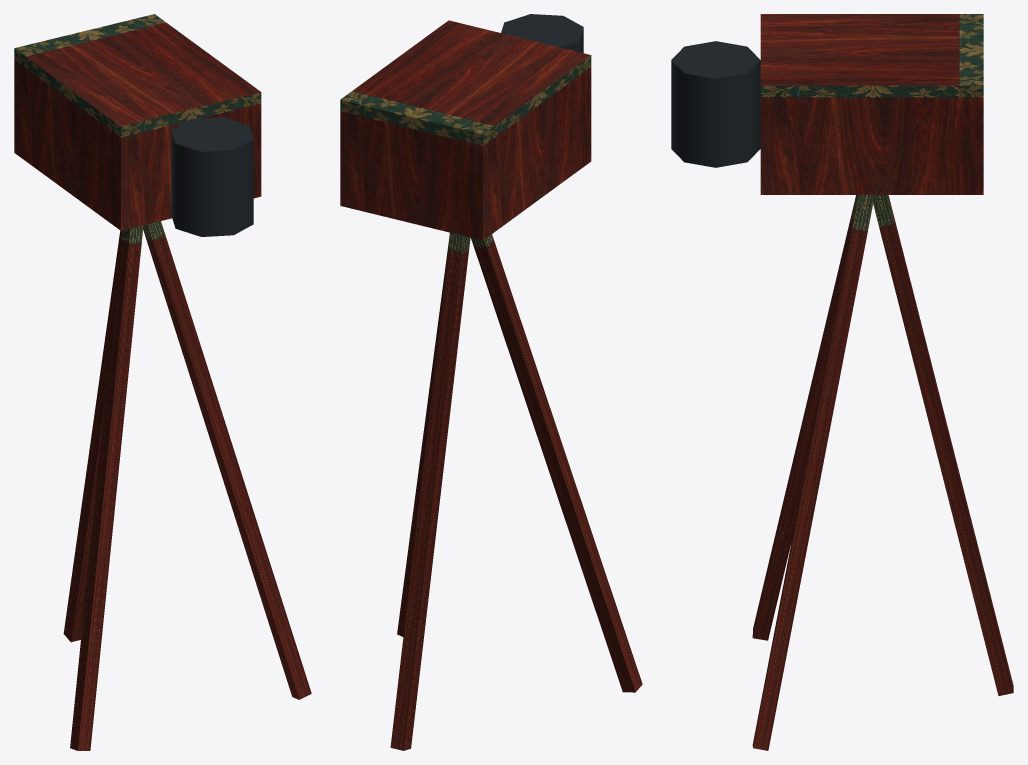
Rendered from press-camera.gltf.
3 views of the same model, side by side, from view 1: azimuth 30°, elevation 25°; view 2: azimuth 150°, elevation 25°; view 3: azimuth 270°, elevation 25° (orthographic). The views are drawn at different scales.
Parts seen in each view (by area): view 1: kit:0:furniture:bronze:, kit:0:furniture:dark:; view 2: kit:0:furniture:bronze:, kit:0:furniture:dark:; view 3: kit:0:furniture:bronze:, kit:0:furniture:dark:.
Boxes of the visible parts, x1,y1,x2,y2 form: kit:0:furniture:bronze:: [14, 14, 311, 750]; kit:0:furniture:dark:: [171, 117, 253, 236]; kit:0:furniture:bronze:: [340, 20, 642, 750]; kit:0:furniture:dark:: [501, 14, 583, 52]; kit:0:furniture:bronze:: [752, 14, 1013, 750]; kit:0:furniture:dark:: [671, 41, 760, 167].
Bounding box in the file's own units: 0.6349 × 1.59 × 0.7671.
2 materials, 1 textured.
